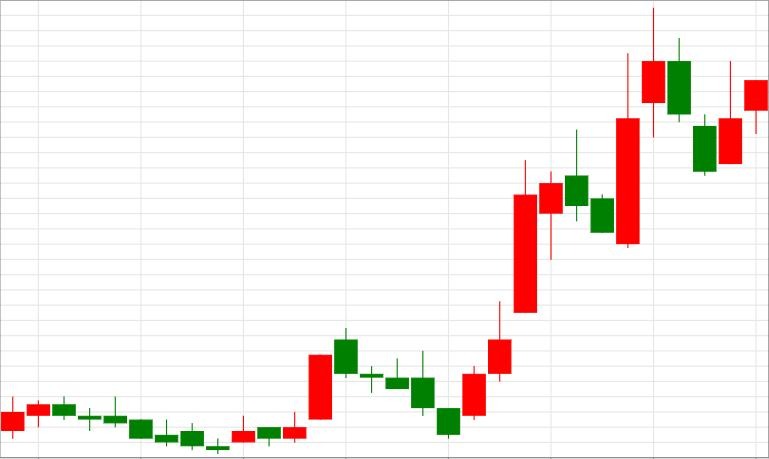hanging_man_fall: (437, 160, 563, 438)
shooting_star_fall: (437, 129, 588, 439)
